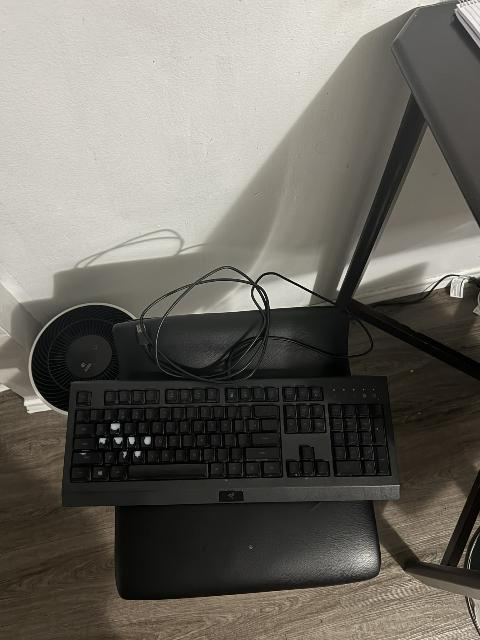ahkeyboard: (55, 366, 409, 515)
